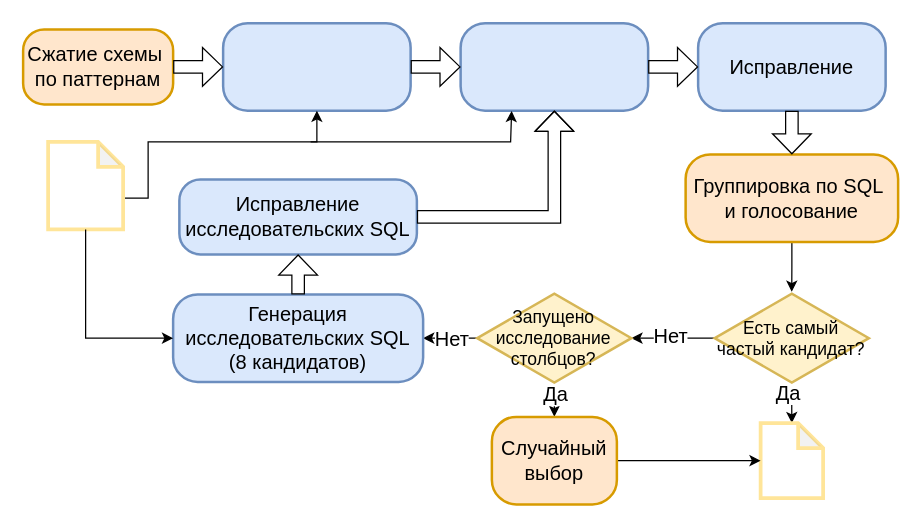
Image size: 920x526. Some labels were removed from this diagram. Here are the shapes that lost their labels. From the top down, the box of each, then its label:
(221, 21, 411, 111): Связывание схемы по таблицам
(459, 21, 649, 111): Генерация (8 кандидатов)
(46, 139, 124, 231): Вопрос
(758, 421, 824, 499): SQL
